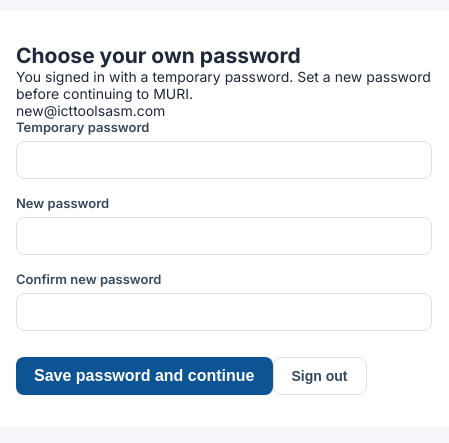
Test: rejects mismatched confirmation without sending a request
Type "Temp-password-234" into the password field labelled "Temporary password" at (224, 160), box 16,141 -> 432,179
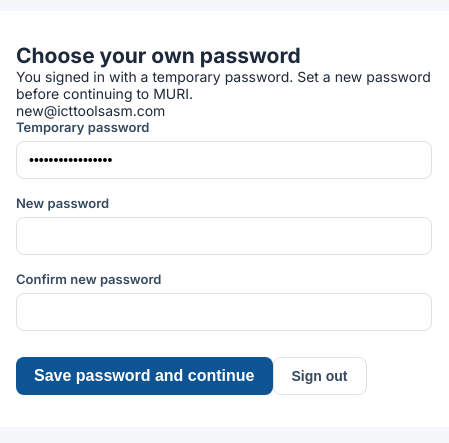
Type "My-new-password-234" into the password field labelled "New password" at (224, 236), box 16,217 -> 432,255
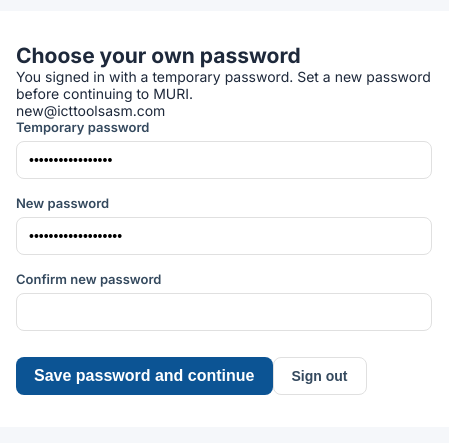
Type "Different-password" into the password field labelled "Confirm new password" at (224, 312), box 16,293 -> 432,331
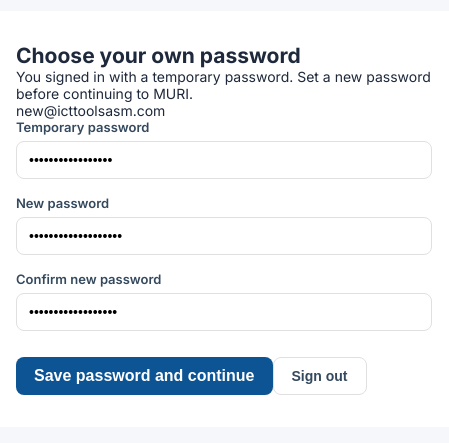
Click the button "Save password and continue" at (144, 376), box 16,357 -> 272,395
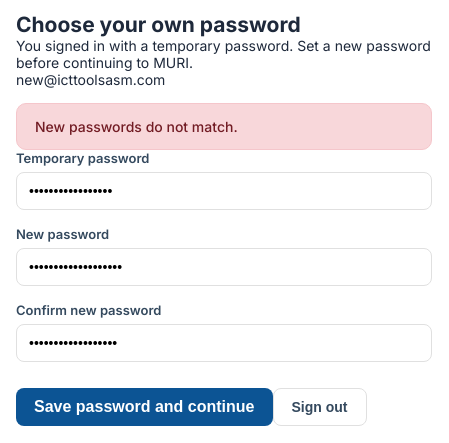
Check: the message reads "New passwords do not match.", box 35,118 -> 238,135
